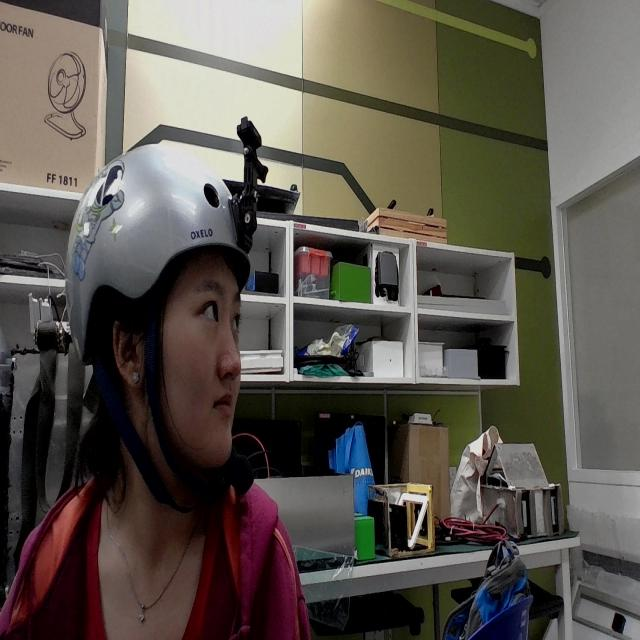With Helmet: (51, 102, 278, 506)
